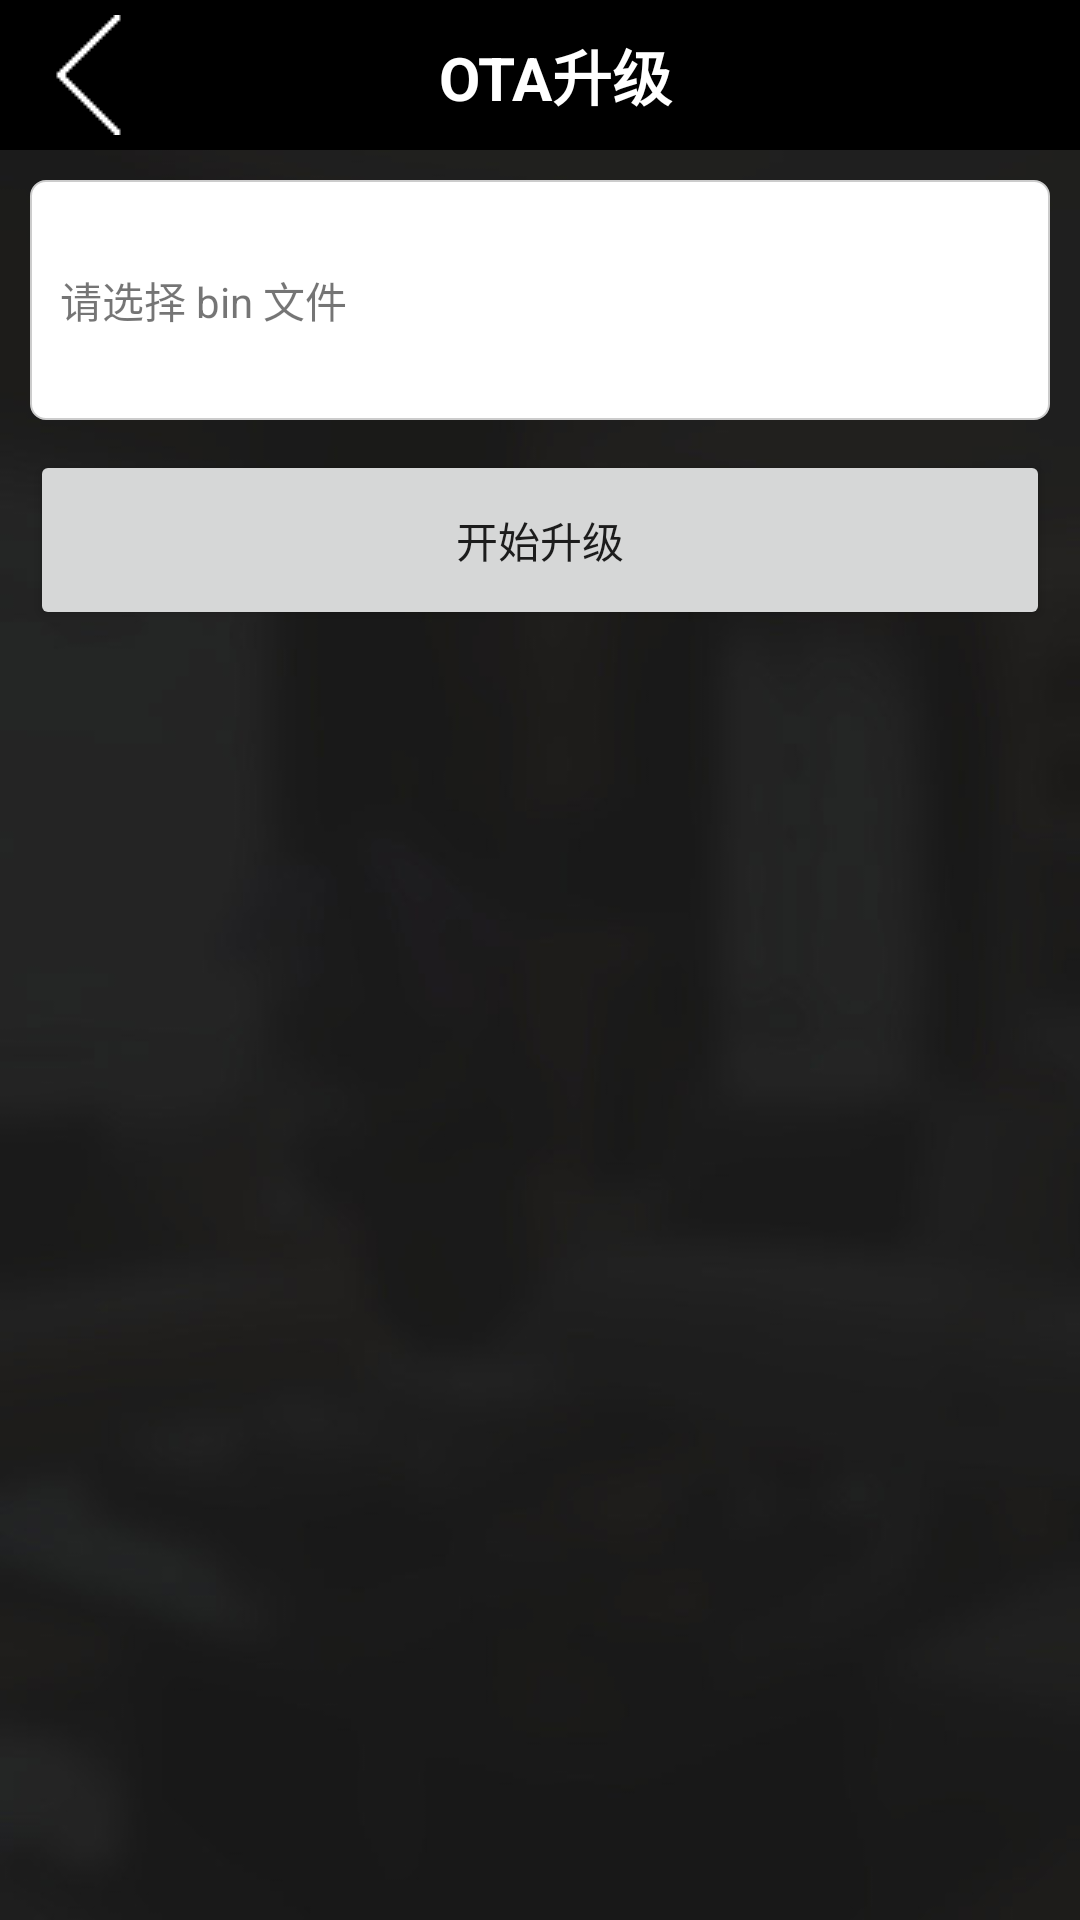

Screen size 1080px×1920px. Icon name, then its box in pixels as [x1,y1,x2,y2]:
left: [56,15,121,135]
